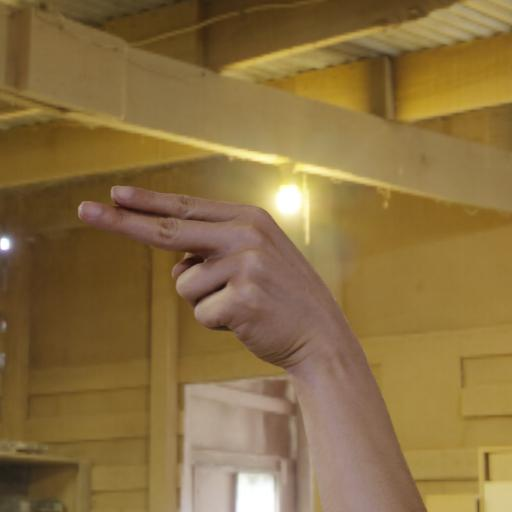H: (59, 175, 388, 414)
